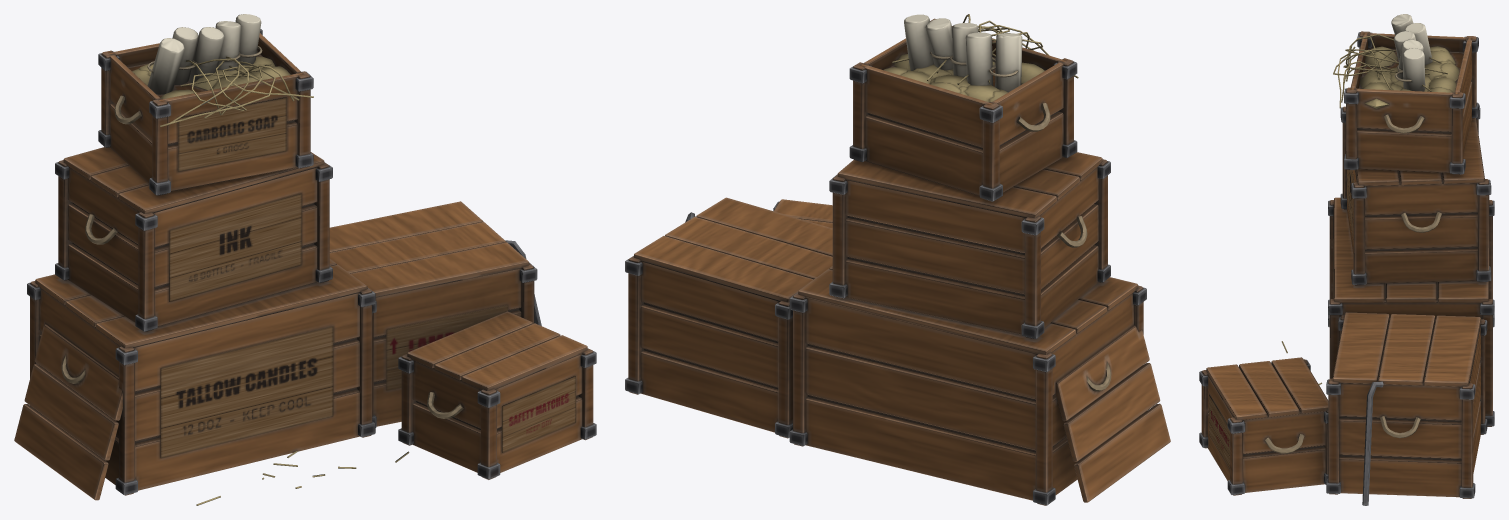
File: StockCrates.fbx
3 renders of one model, left to right at view 1: azimuth 30°, elevation 25°; view 2: azimuth 150°, elevation 25°; view 3: azimuth 270°, elevation 25°, orthographic. The views are drawn at different scales.
Visible parts, largest first — view 1: StockCrates; view 2: StockCrates; view 3: StockCrates.
Part boxes in pixels (x1,y1,x2,y2): StockCrates: (14,14,596,505); StockCrates: (625,14,1170,505); StockCrates: (1199,14,1494,505).
Bounding box in the file's own units: 513 × 415 × 322.
